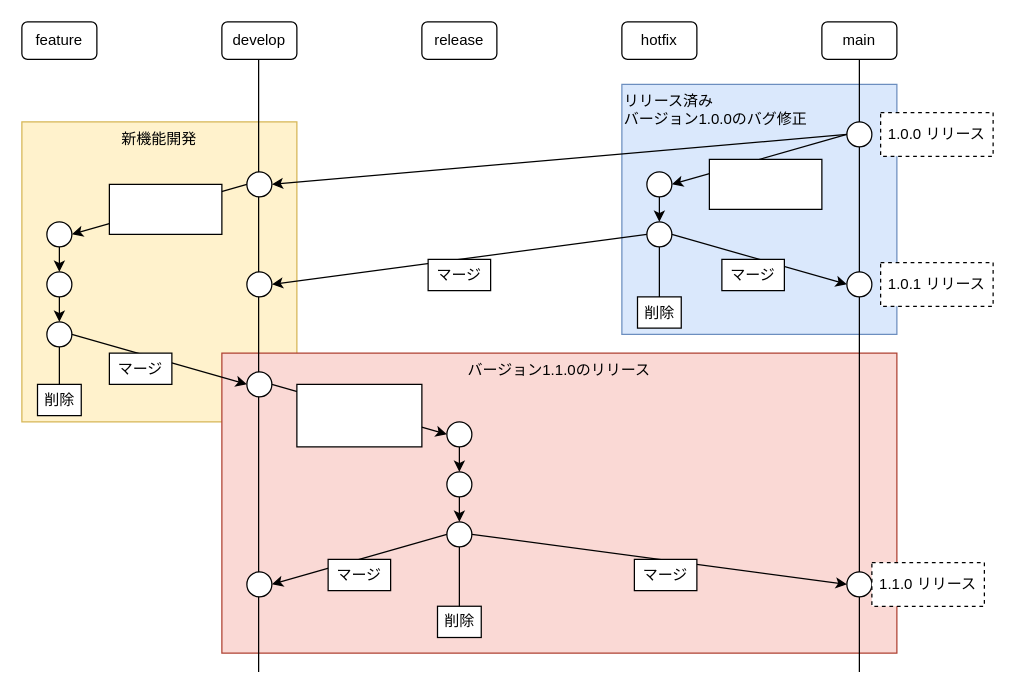
The diagram is 1015 pixels wide and 695 high, and some of its shapes have lost their labels. Here are the shapes that lost their labels. From the top down, the centre of each, then its label:
the point at 765,183: バグ修正用の ブランチ作成
the point at 165,208: 新機能開発用の ブランチ作成
the point at 359,415: リリース準備用の ブランチ作成
